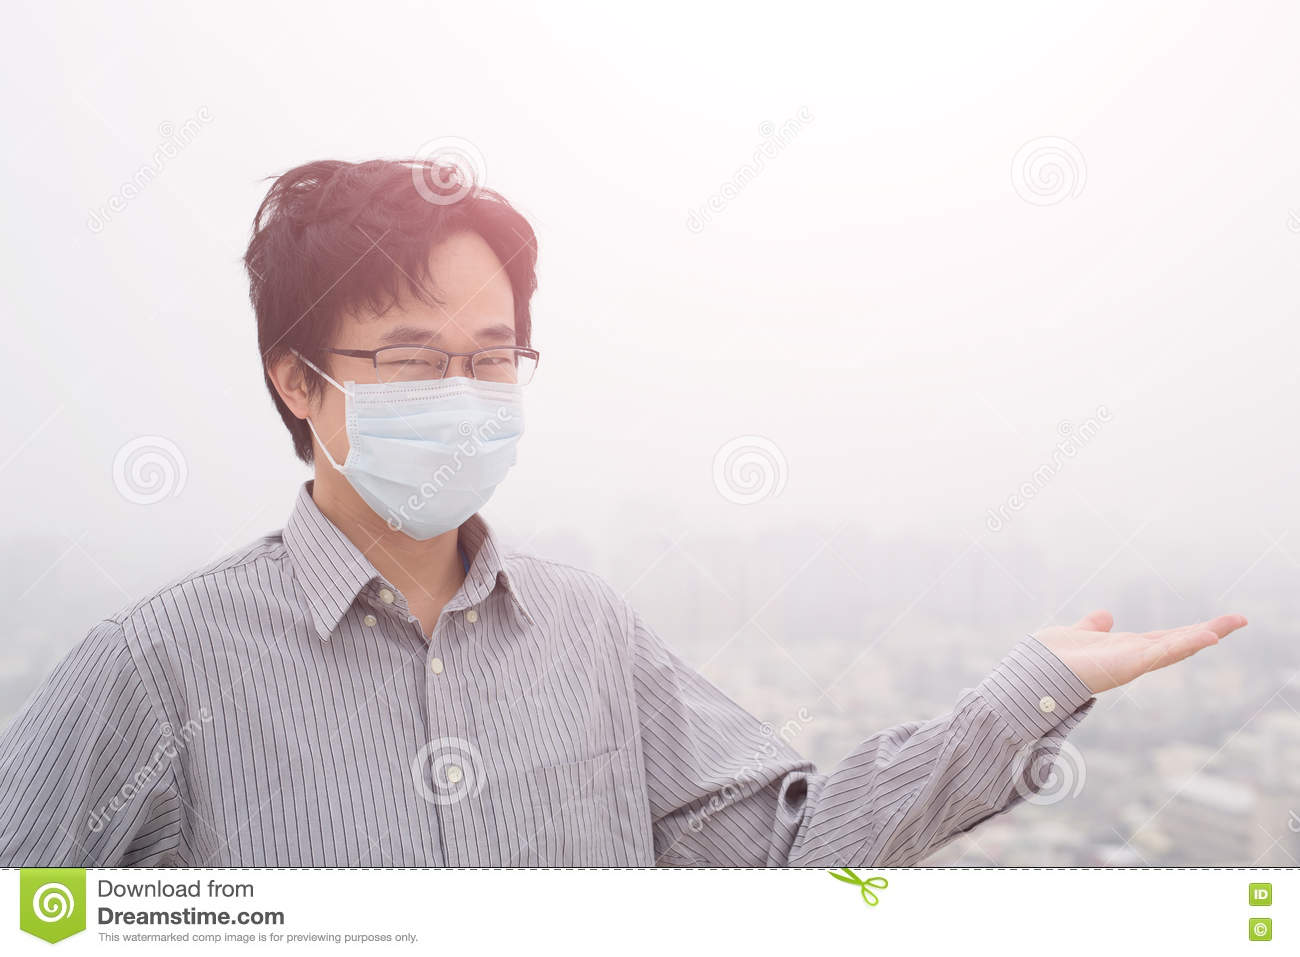mask: (336, 383, 538, 538)
